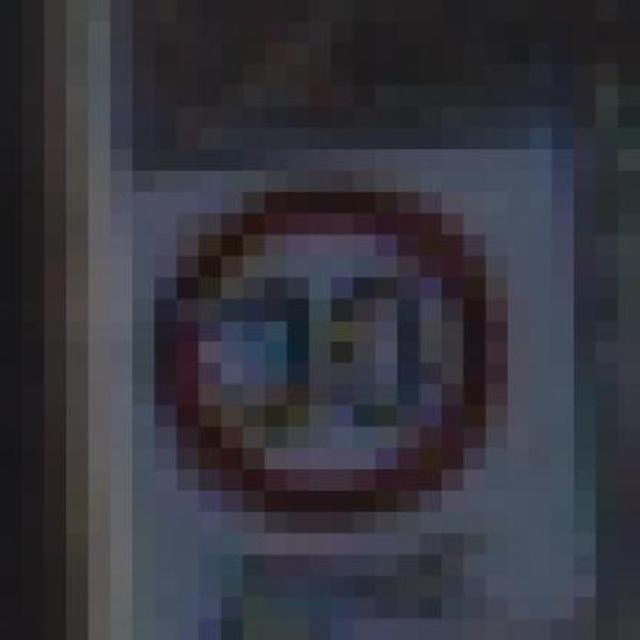Speed Limit 30 KMPh: (155, 170, 507, 555)
